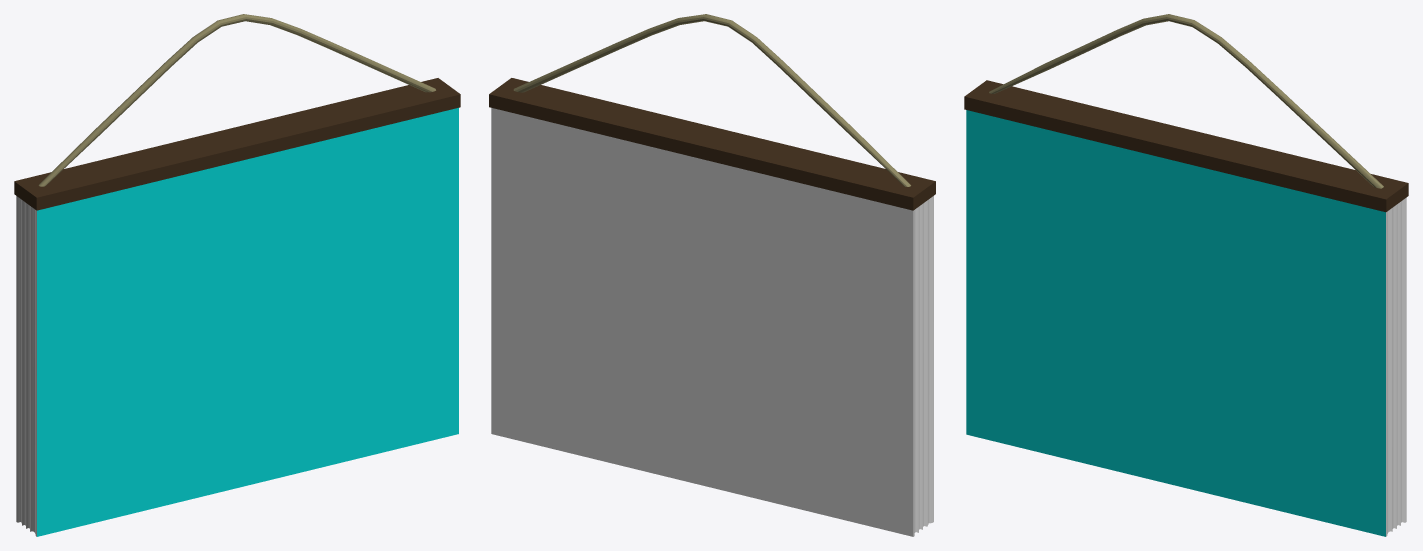
The model's file is Calendar.fbx.
The picture shows the model from 3 angles, left to right: view 1: azimuth 30°, elevation 25°; view 2: azimuth 150°, elevation 25°; view 3: azimuth 330°, elevation 25°; orthographic projection.
Visible parts, largest first — view 1: polySurface4; view 2: polySurface4; view 3: polySurface4.
Boxes of the visible parts, left/top/right/bottom form: polySurface4: left=14, top=14, right=460, bottom=536; polySurface4: left=489, top=14, right=935, bottom=536; polySurface4: left=964, top=14, right=1408, bottom=536.
Size of the model in its own units: 7.12 by 7.41 by 0.657.
